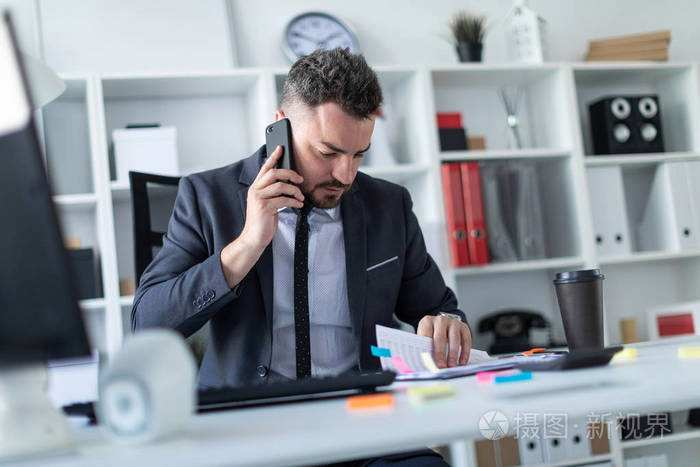calling: (240, 115, 305, 242)
